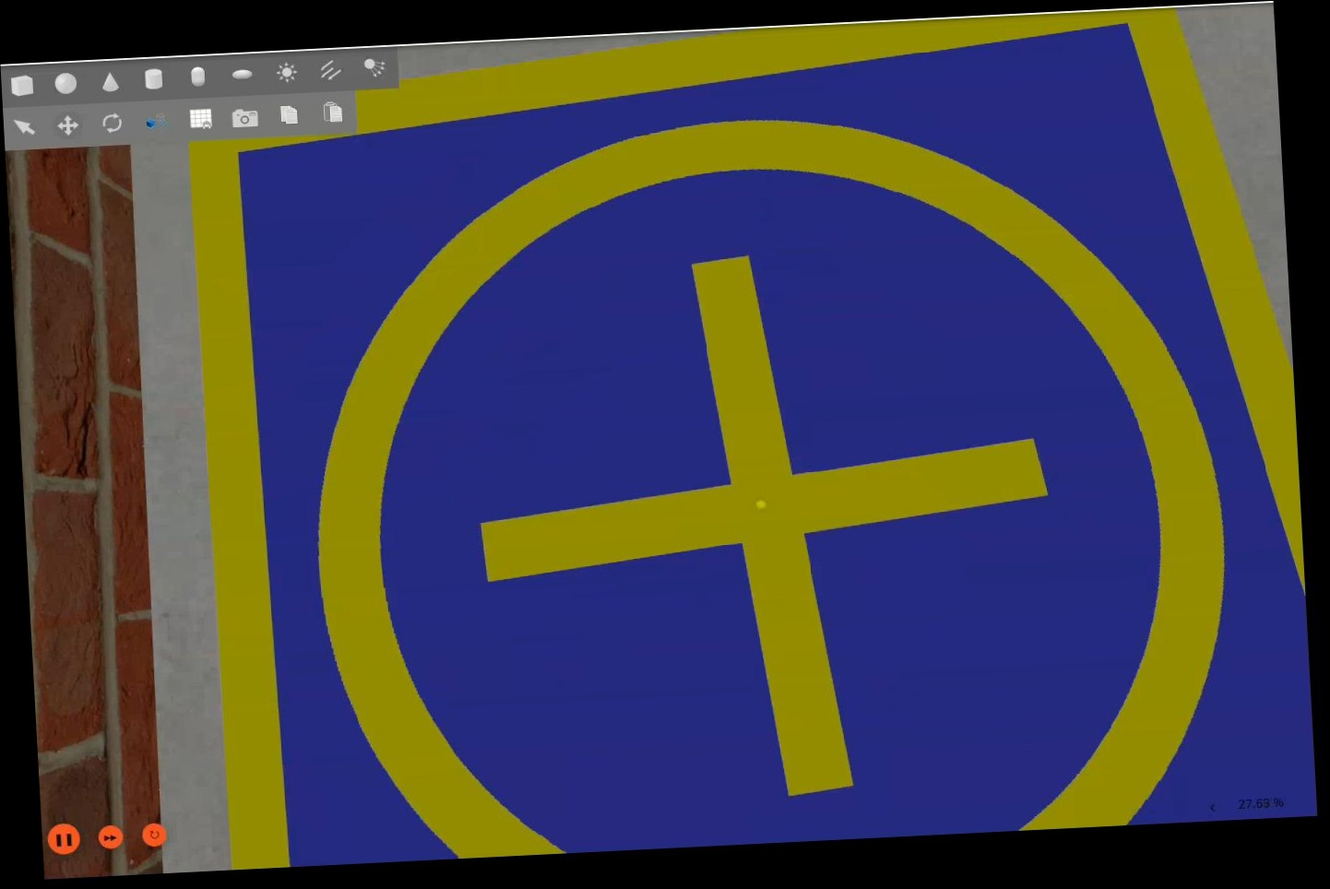small_base: (185, 1, 1318, 871)
